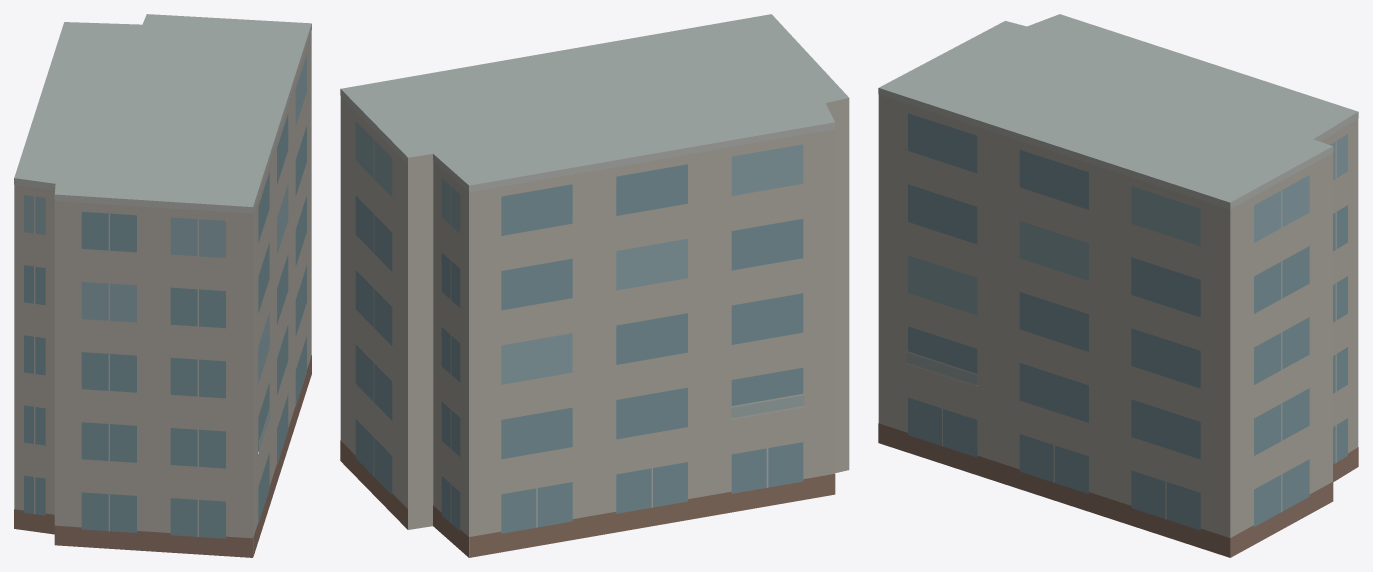
File: survey-upis-32884757.glb
The picture shows the model from 3 angles, left to right: view 1: azimuth 30°, elevation 25°; view 2: azimuth 150°, elevation 25°; view 3: azimuth 270°, elevation 25°; orthographic projection. The views are drawn at different scales.
Visible parts, largest first — view 1: survey-upis-32884757.tmp; view 2: survey-upis-32884757.tmp; view 3: survey-upis-32884757.tmp.
Part boxes in pixels (x1,y1,x2,y2): survey-upis-32884757.tmp: (14, 14, 311, 557); survey-upis-32884757.tmp: (340, 14, 849, 557); survey-upis-32884757.tmp: (878, 14, 1358, 557).
Size of the model in its own units: 15.04 by 13.2 by 16.17.
